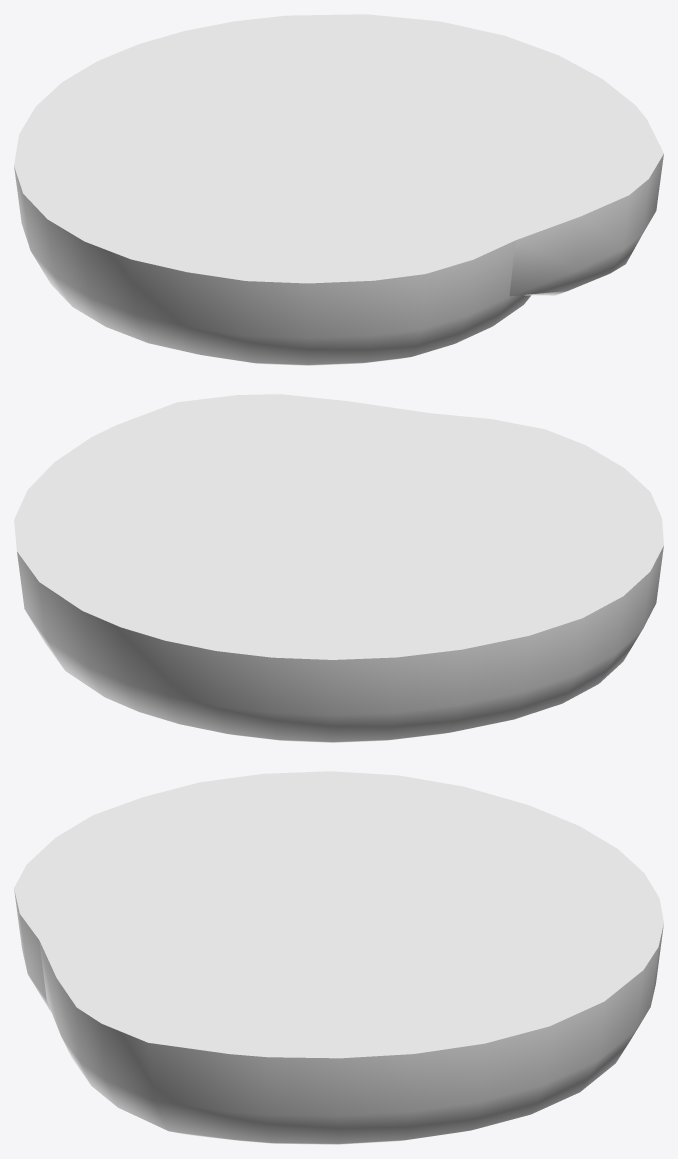
Rendered from Snail_bun_half_01.fbx.
3 views of the same model, one above another, from view 1: azimuth 30°, elevation 25°; view 2: azimuth 150°, elevation 25°; view 3: azimuth 270°, elevation 25° (orthographic). The views are drawn at different scales.
Parts seen in each view (by area): view 1: Snail_bun_half_01; view 2: Snail_bun_half_01; view 3: Snail_bun_half_01.
Part boxes in pixels (x1,y1,x2,y2): Snail_bun_half_01: [14, 14, 663, 365]; Snail_bun_half_01: [14, 394, 663, 742]; Snail_bun_half_01: [14, 771, 663, 1144].
Size of the model in its own units: 119 by 114 by 21.62.
